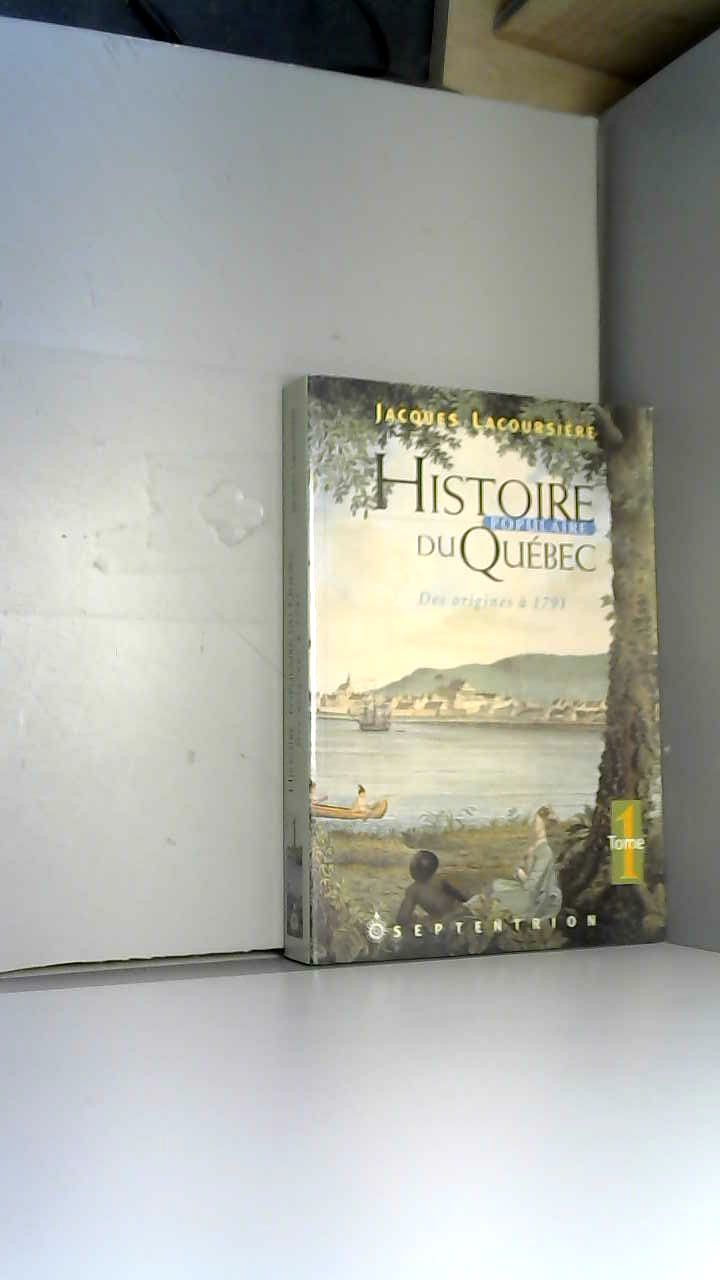book: (232, 336, 720, 998)
